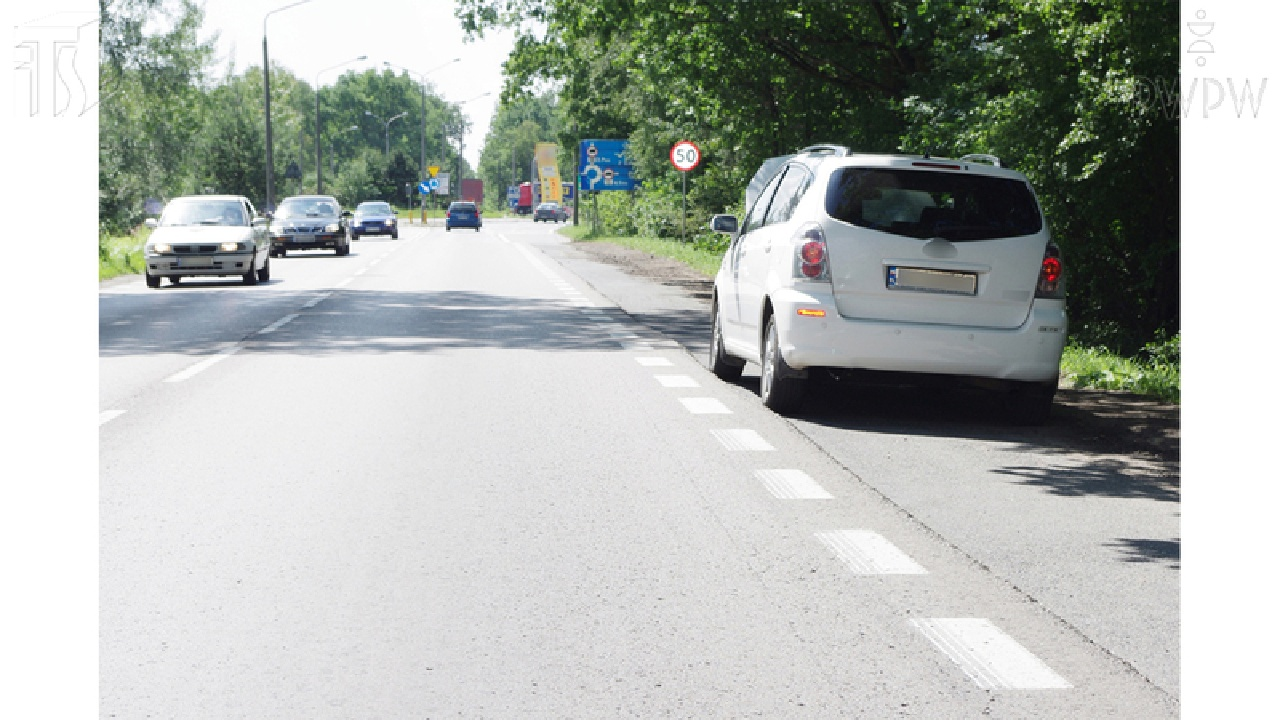B33_50: (670, 141, 701, 171)
